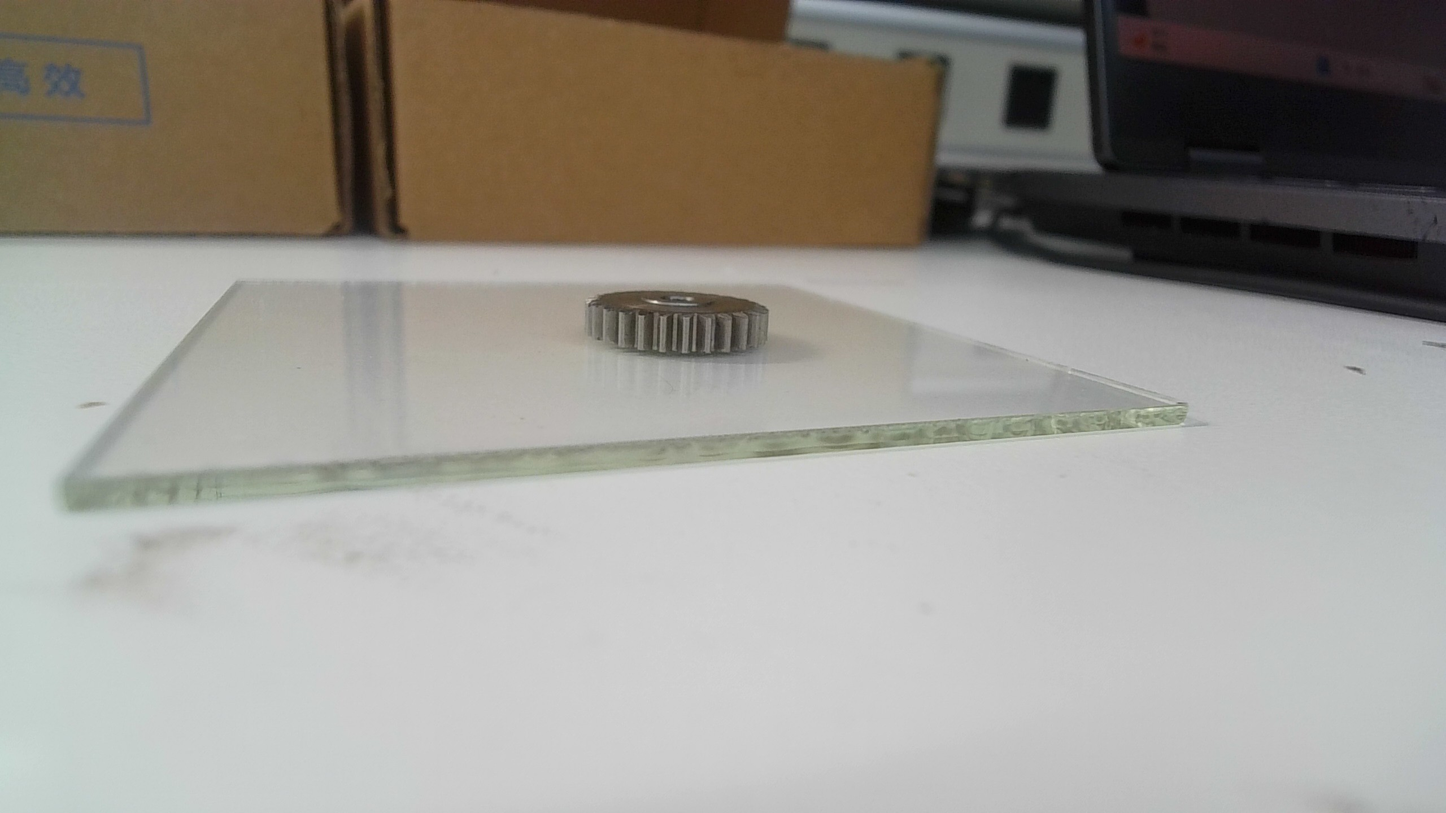gear: (582, 290, 774, 360)
